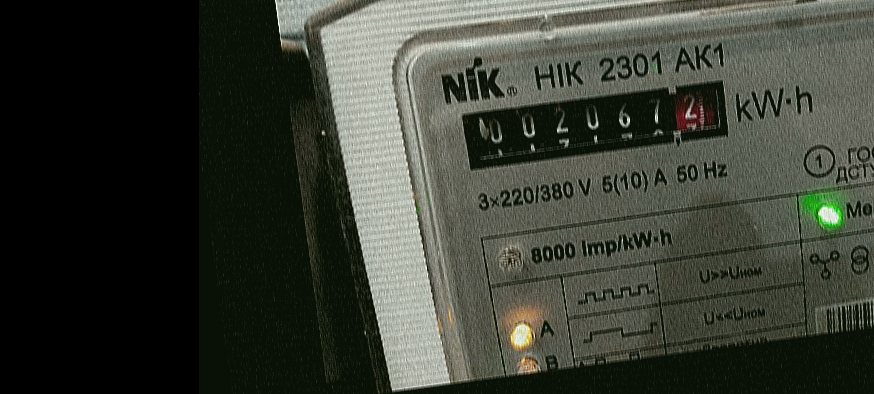0: (485, 115, 507, 146), (581, 100, 603, 130), (519, 109, 539, 140)
2: (551, 104, 572, 135), (680, 90, 701, 121)
6: (614, 99, 636, 130)
7: (647, 95, 667, 126)
screen: (447, 64, 747, 185)
